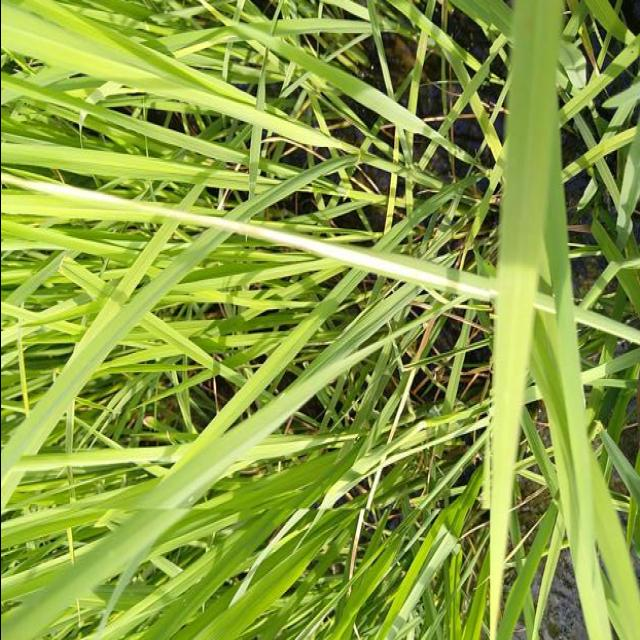Leaf Blight: (3, 177, 500, 295)
